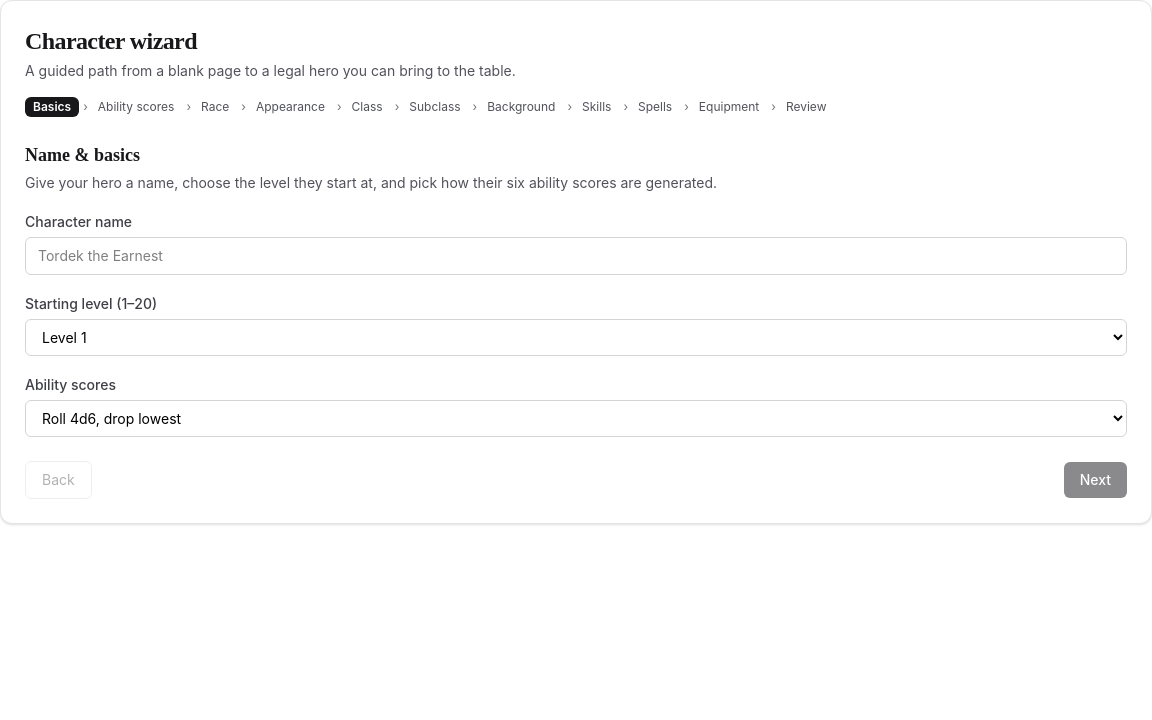
Test: CharacterWizardPage › rolls all six abilities and unlocks the next step
This screenshot has width=1152, height=720.
Type "Tordek" into the field labelled "Character name" at (576, 256), box [25,237,1127,275]
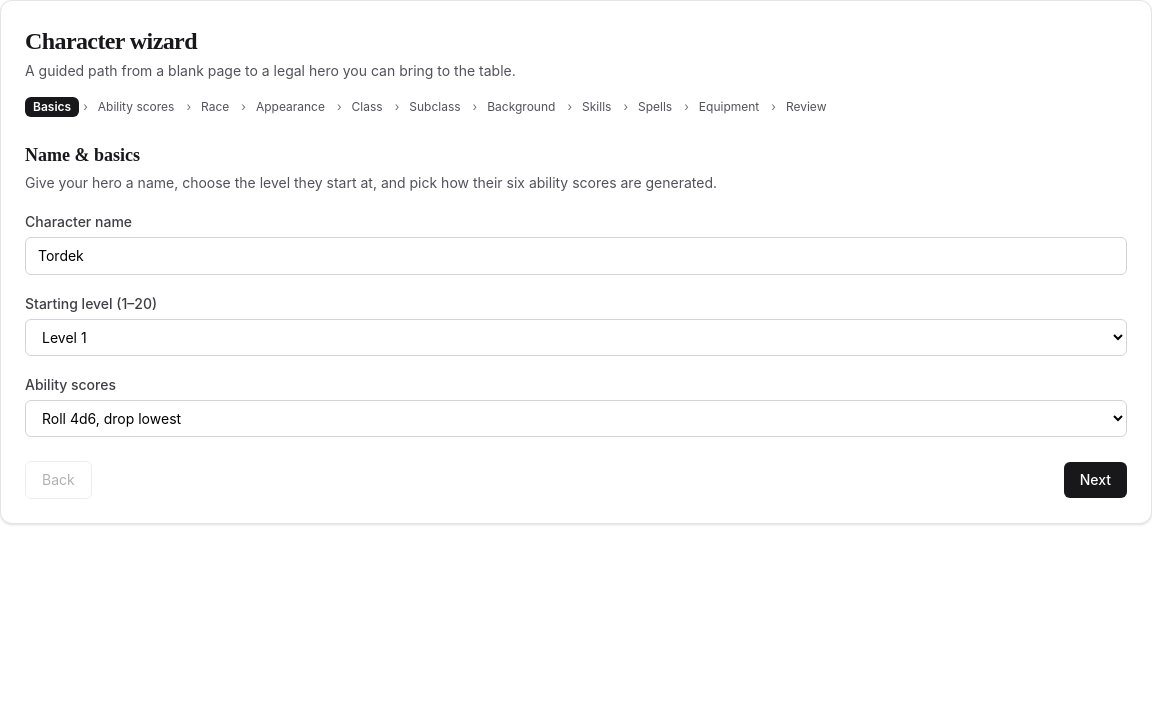
Click the button "Next" at (1095, 480), box [1064,462,1127,498]
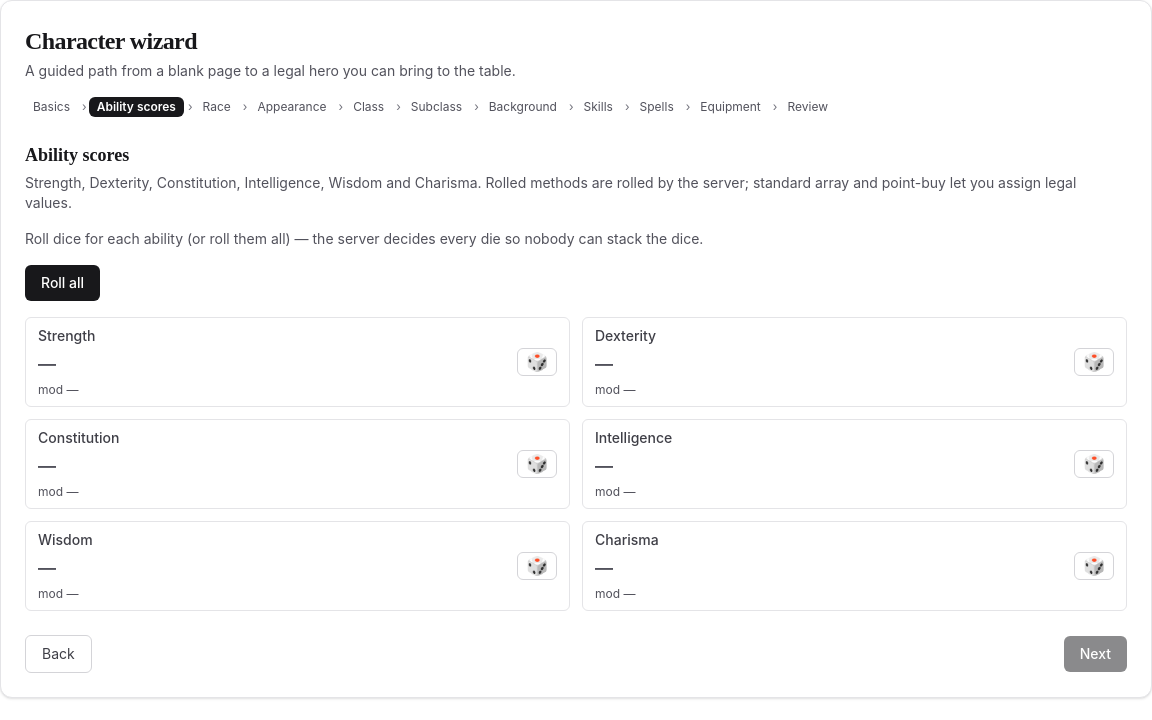
Click the button with aria-label "Roll all ability scores" at (63, 283), box [25,265,100,301]
Wait 2000 ms
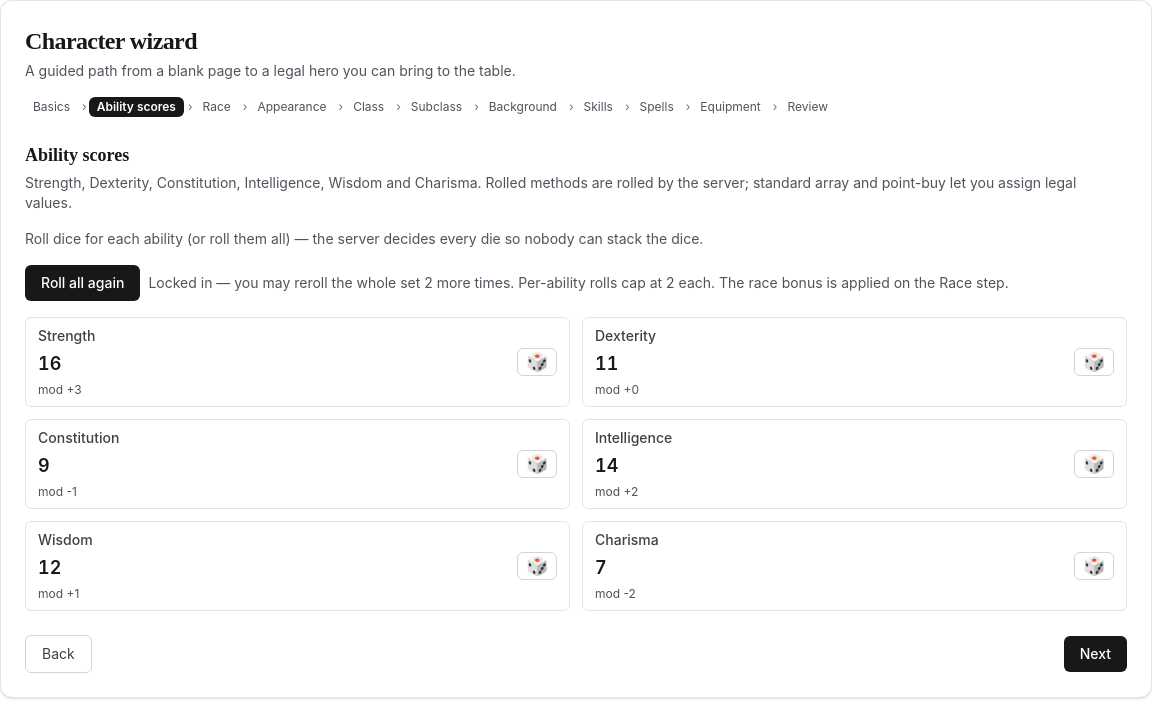
expect the text with test id "score-strength" reads "16": met, box [38,353,61,374]
expect the text with test id "score-charisma" reads "7": met, box [595,557,607,578]
expect the button "Next" is enabled: met, box [1064,636,1127,672]
